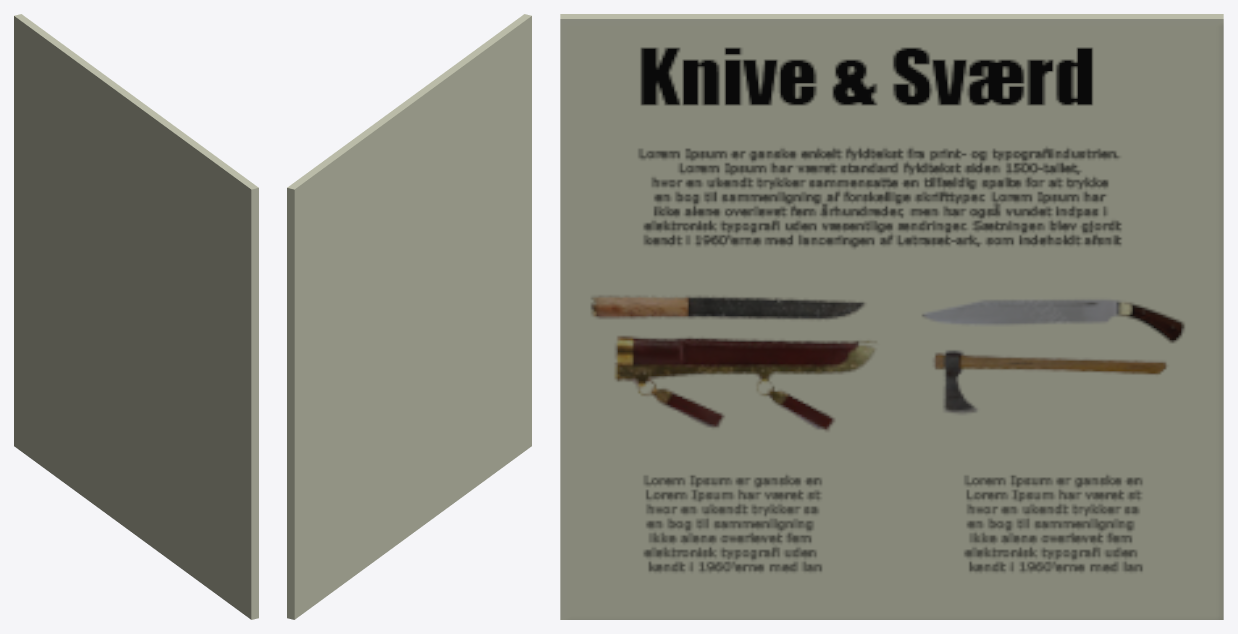
Rendered from plakat_svaerd.gltf.
The picture shows the model from 3 angles, left to right: view 1: azimuth 30°, elevation 25°; view 2: azimuth 150°, elevation 25°; view 3: azimuth 270°, elevation 25°; orthographic projection. The views are drawn at different scales.
Parts seen in each view (by area): view 1: Cube; view 2: Cube; view 3: Cube.
Boxes of the visible parts, <box> form: Cube: <box>14,14,258,619</box>; Cube: <box>287,14,531,619</box>; Cube: <box>560,14,1223,619</box>.
Bounding box in the file's own units: 0.0602 × 3.32 × 3.32.
1 material, 1 textured.
